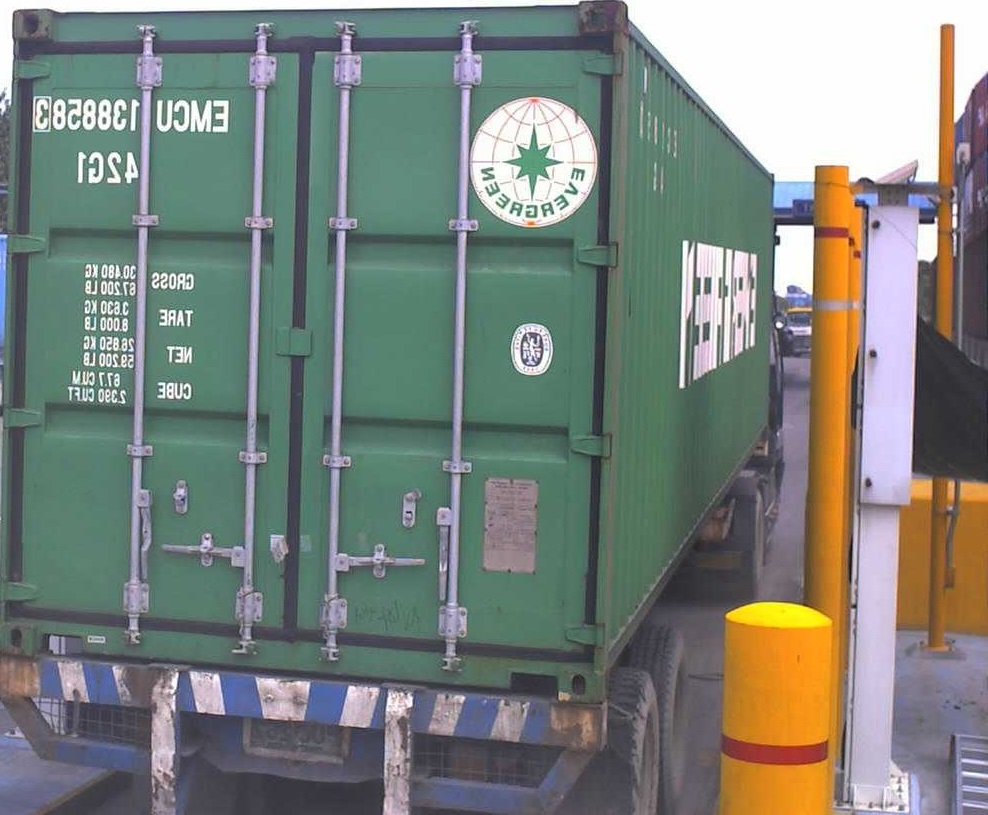container_door: (7, 1, 622, 710)
